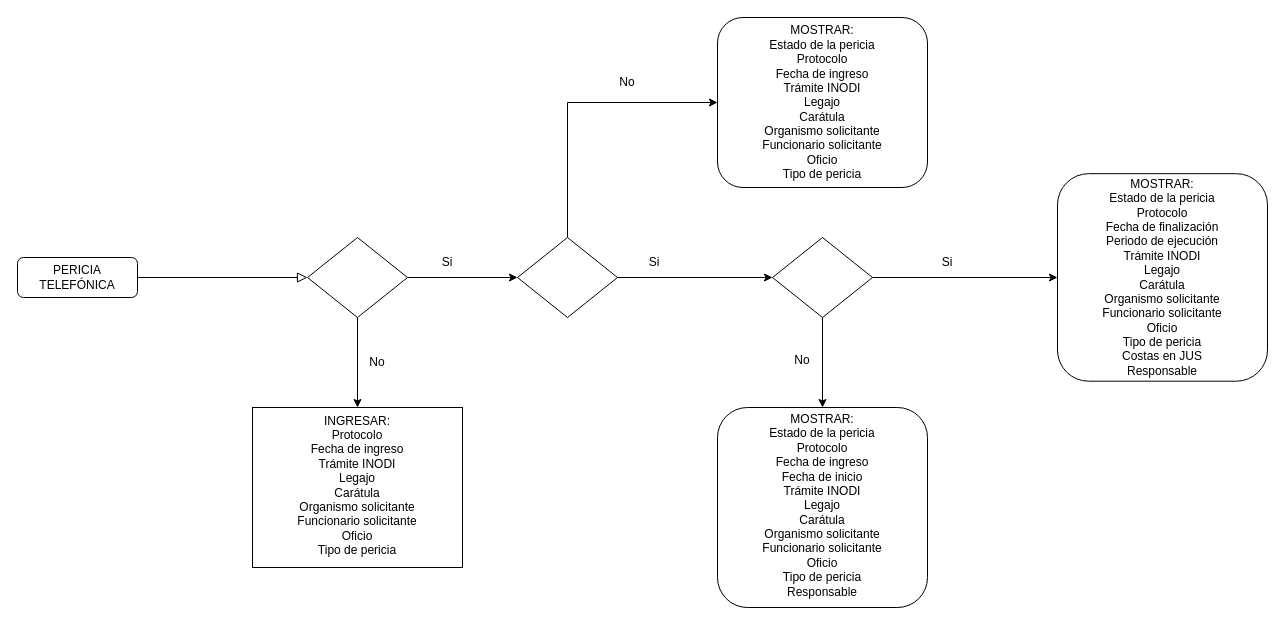
Some shapes in this 1285 by 625 pixel diagram are drawn without their labels. Here are the shapes that lost their labels. From the top down, the box of each, then its label:
(306, 236, 408, 318): Se ingresó la pericia?
(516, 236, 618, 318): Inició la pericia?
(772, 236, 872, 318): Finalizó la pericia?
